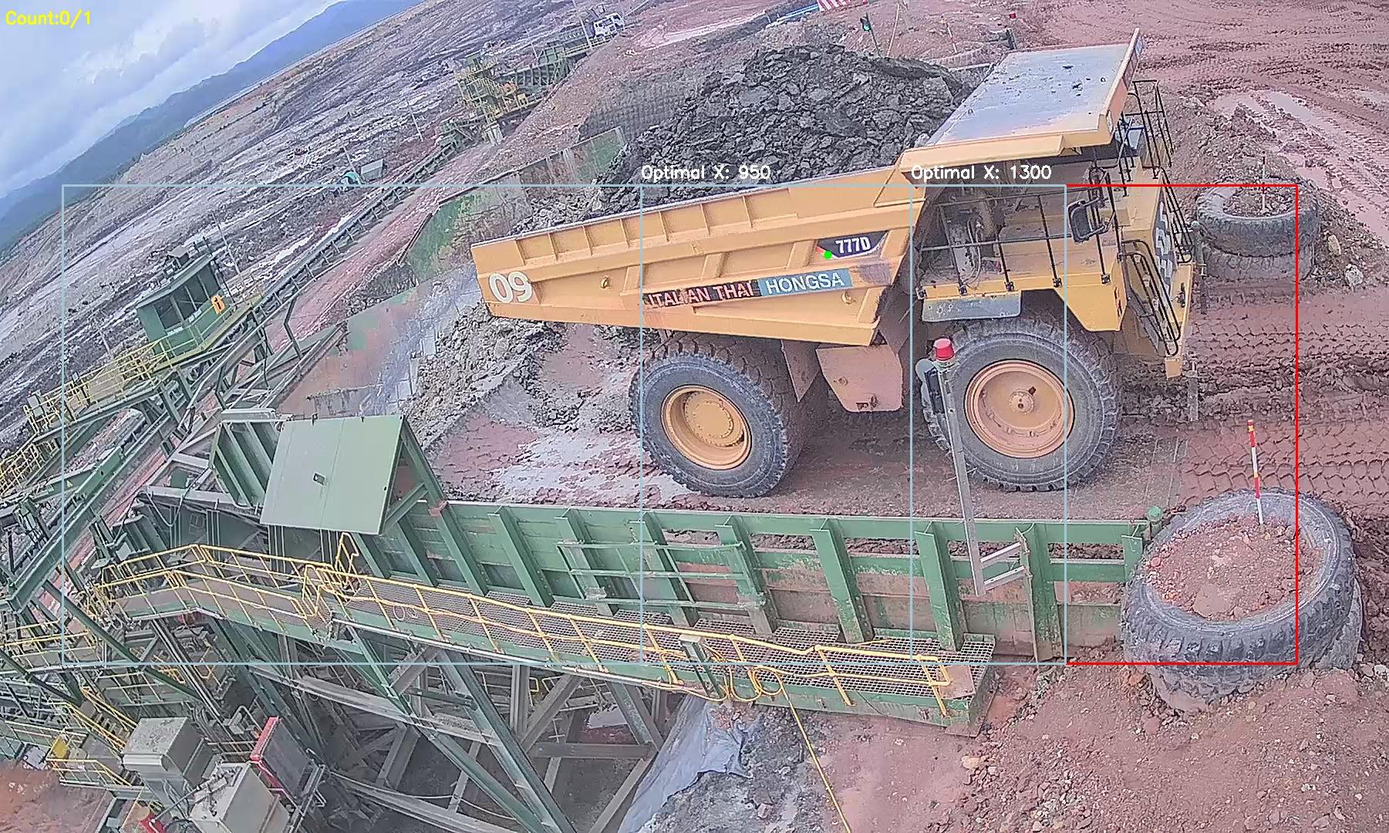company: (642, 259, 856, 314)
full_load: (627, 44, 957, 209)
mining_truck: (456, 20, 1214, 495)
tail_number: (484, 266, 538, 311)
truck_size: (813, 228, 894, 262)
